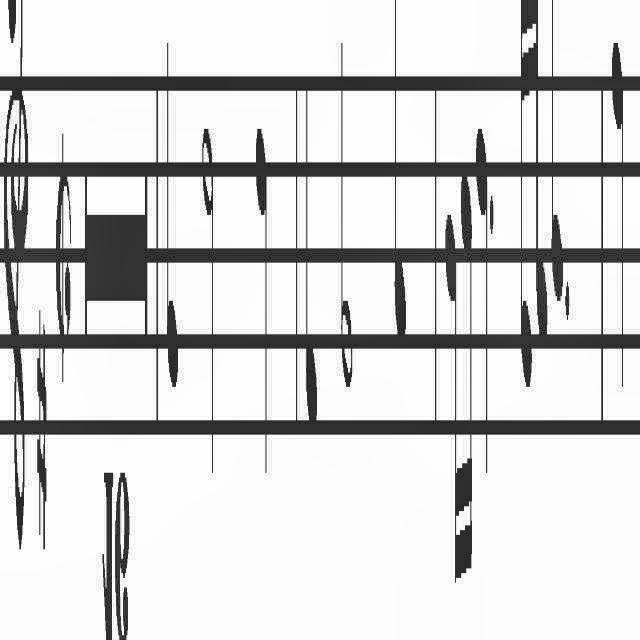Bass-clef: (0, 0, 31, 596)
Diez: (34, 297, 50, 575)
Half-note: (197, 90, 217, 487), (338, 43, 354, 417)
Quarter-note: (248, 91, 272, 487), (609, 11, 631, 432), (390, 0, 410, 372), (302, 71, 320, 462), (164, 21, 180, 427), (474, 122, 490, 514), (550, 1, 562, 340)
Sixteenth-note: (441, 191, 459, 640), (516, 1, 532, 412), (534, 0, 550, 372), (460, 159, 472, 589)
